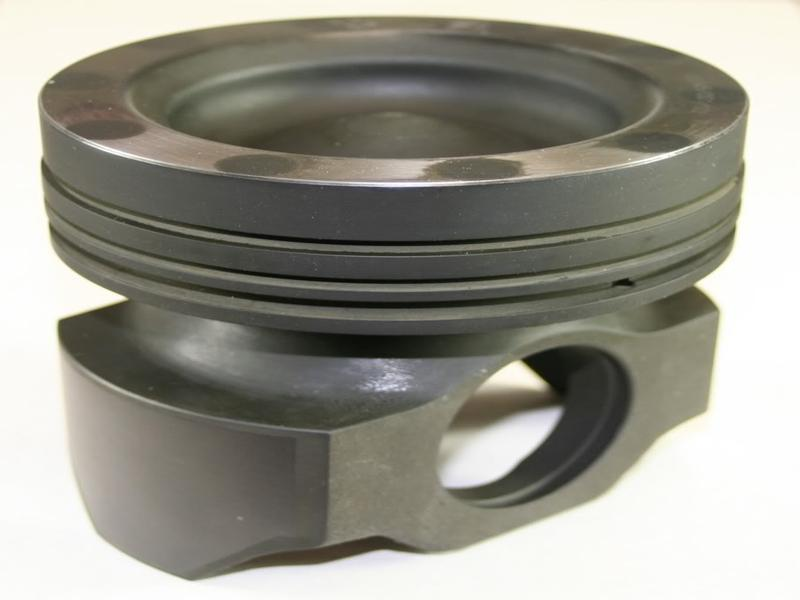piston: (37, 13, 757, 585)
